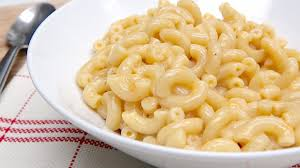mancheese: (35, 1, 300, 158)
